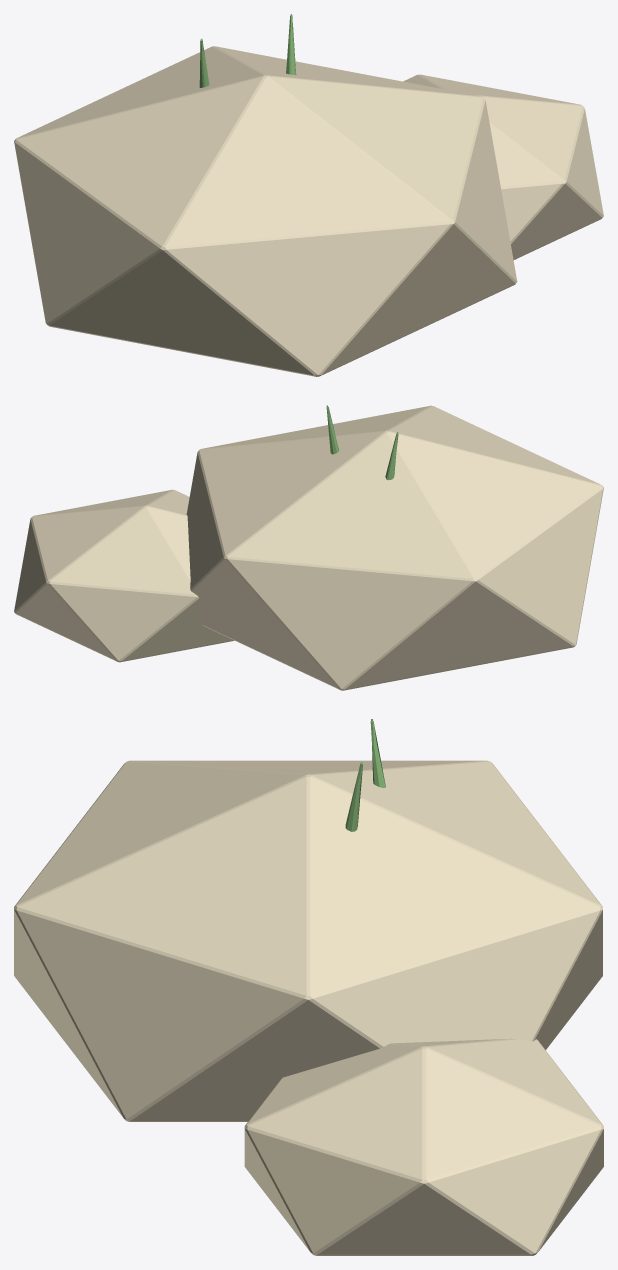
The picture shows the model from 3 angles, top to bottom: view 1: azimuth 30°, elevation 25°; view 2: azimuth 150°, elevation 25°; view 3: azimuth 270°, elevation 25°; orthographic projection. The views are drawn at different scales.
Visible parts, largest first — view 1: 沙丘主体, 沙脊, 枯草; view 2: 沙丘主体, 沙脊, 枯草; view 3: 沙丘主体, 沙脊, 枯草.
Part boxes in pixels (left/top/right/bottom): 沙丘主体: left=14, top=46, right=517, bottom=376; 沙脊: left=403, top=74, right=603, bottom=259; 枯草: left=199, top=14, right=296, bottom=87; 沙丘主体: left=186, top=405, right=603, bottom=690; 沙脊: left=14, top=489, right=234, bottom=662; 枯草: left=326, top=405, right=398, bottom=480; 沙丘主体: left=14, top=760, right=602, bottom=1121; 沙脊: left=244, top=1038, right=603, bottom=1255; 枯草: left=345, top=719, right=385, bottom=831.
Size of the model in its own units: 857 by 427 by 612.
